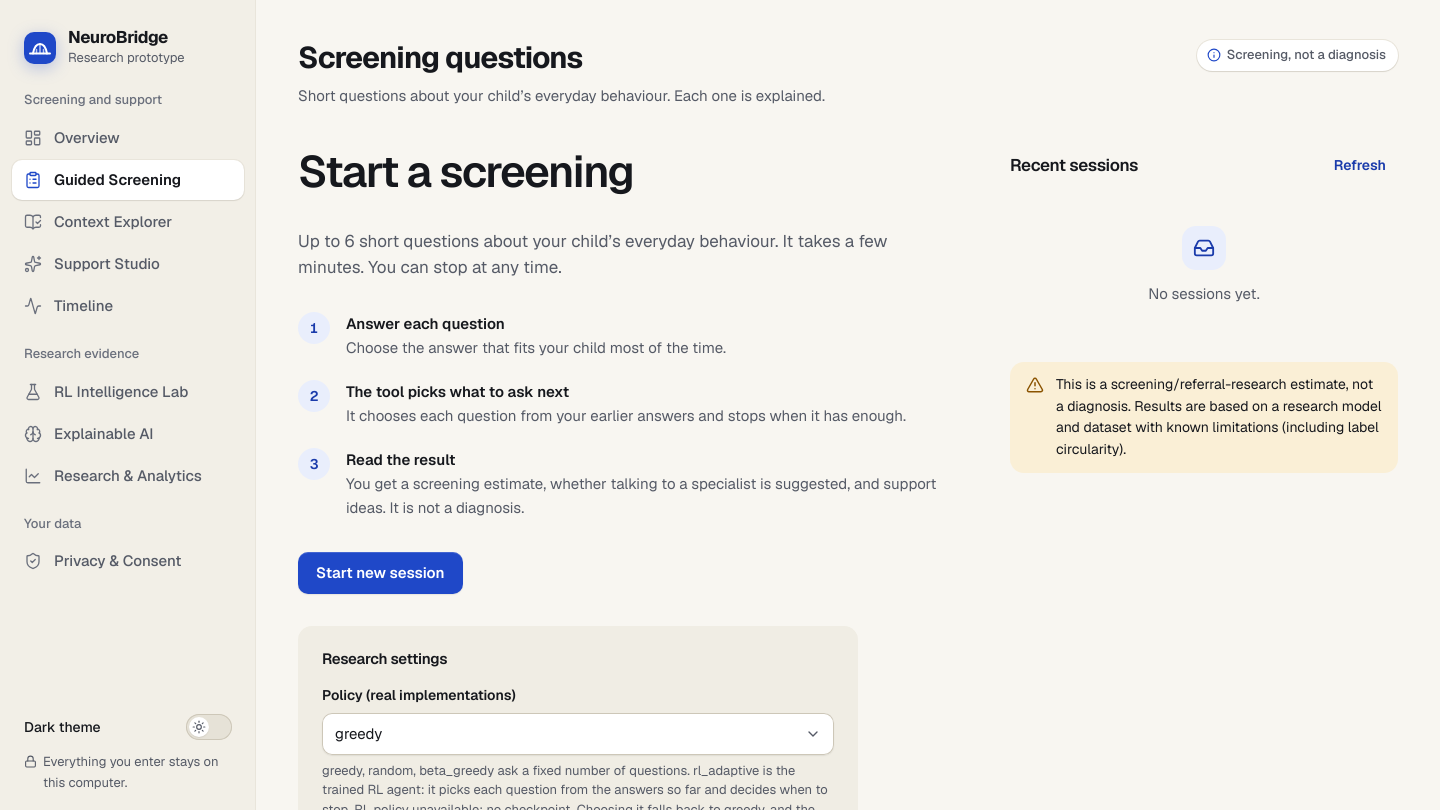
Test case: guided screening › rl_adaptive offers "Prefer not to answer" and sends skip
The width and height of the screenshot is (1440, 810).
Select "rl_adaptive" in the dropdown labelled "Policy (real implementations)" at coordinates (578, 734), box [322,713,834,755]
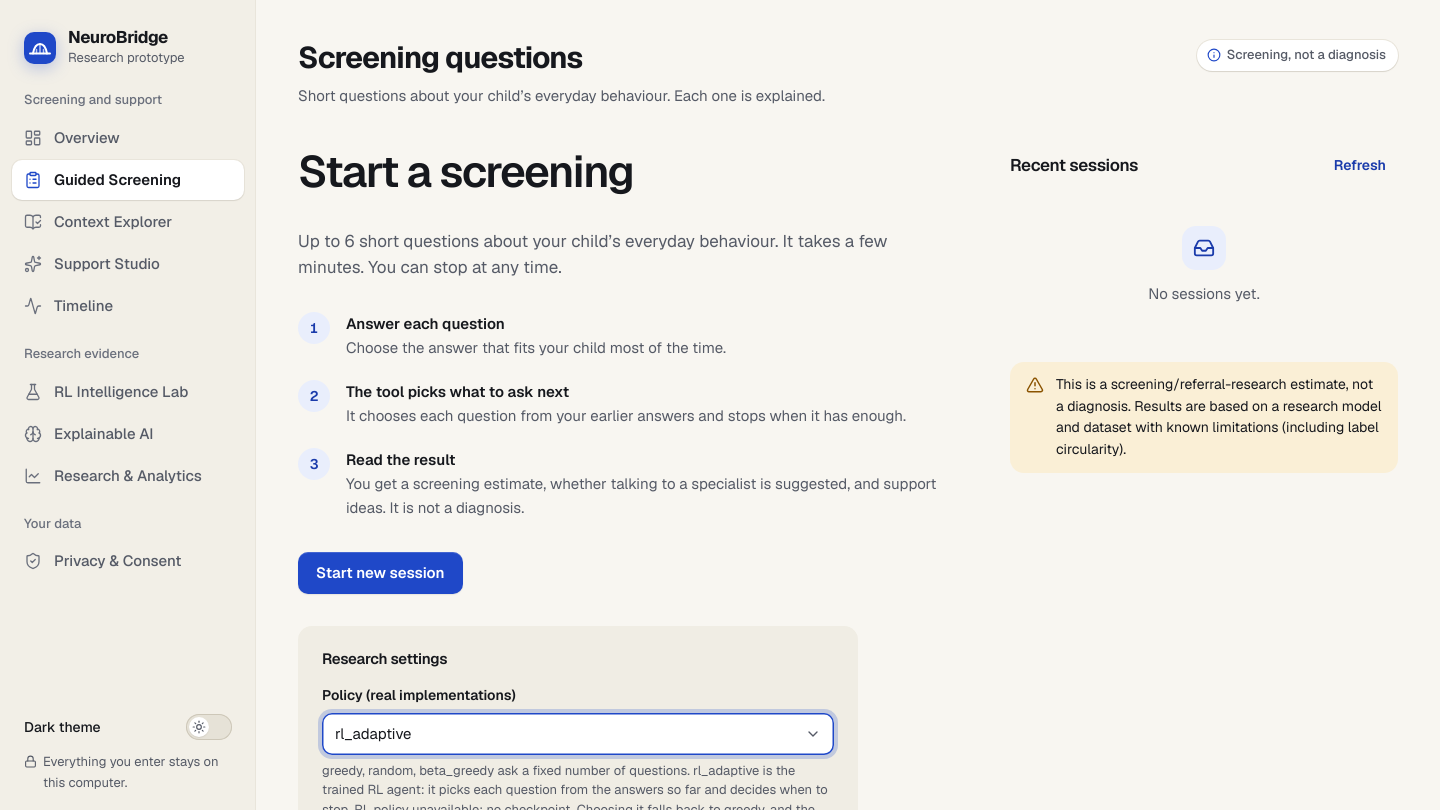
Click the button "Start new session" at coordinates (380, 573), box [298,552,462,594]
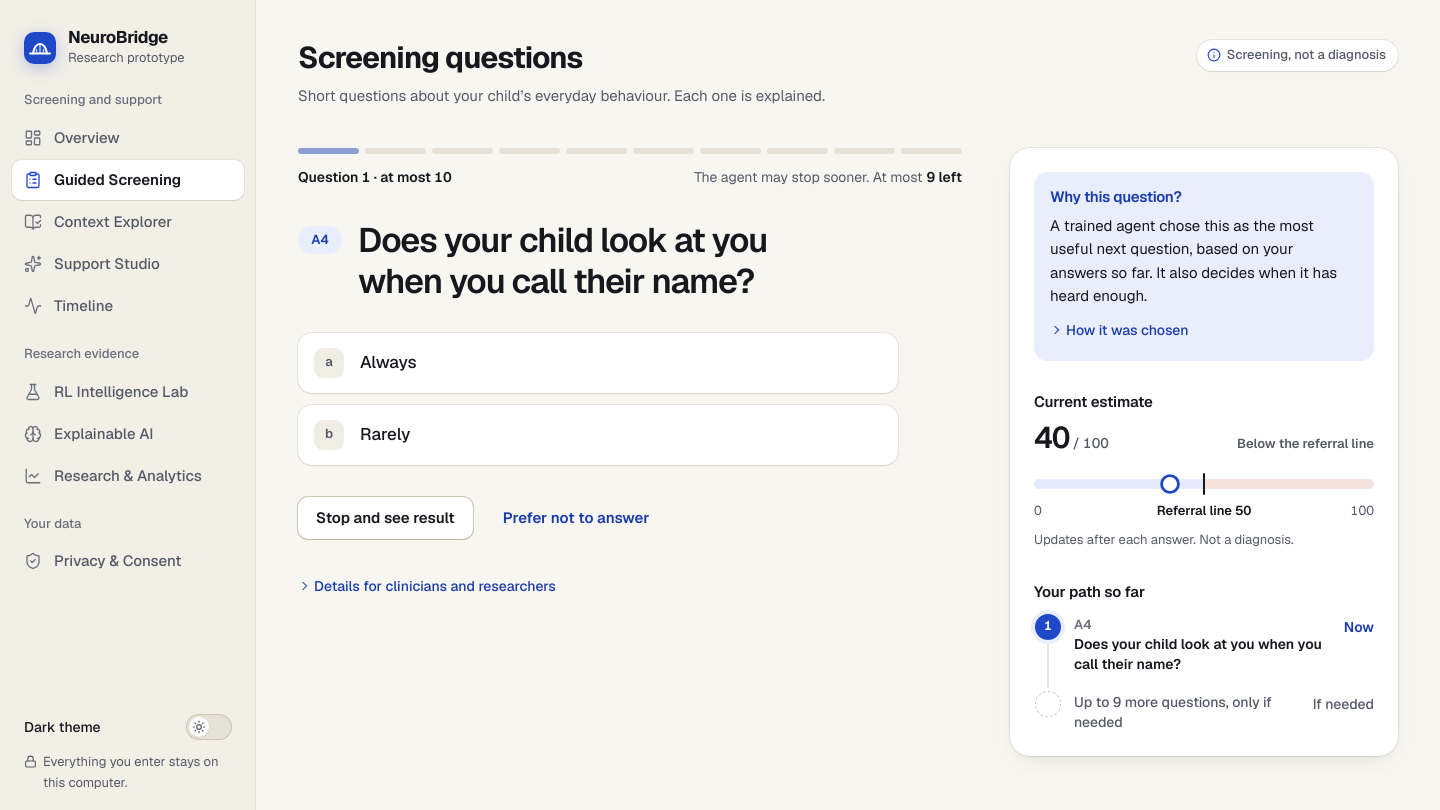
Click the button "Prefer not to answer" at coordinates (576, 518), box [485,497,667,539]
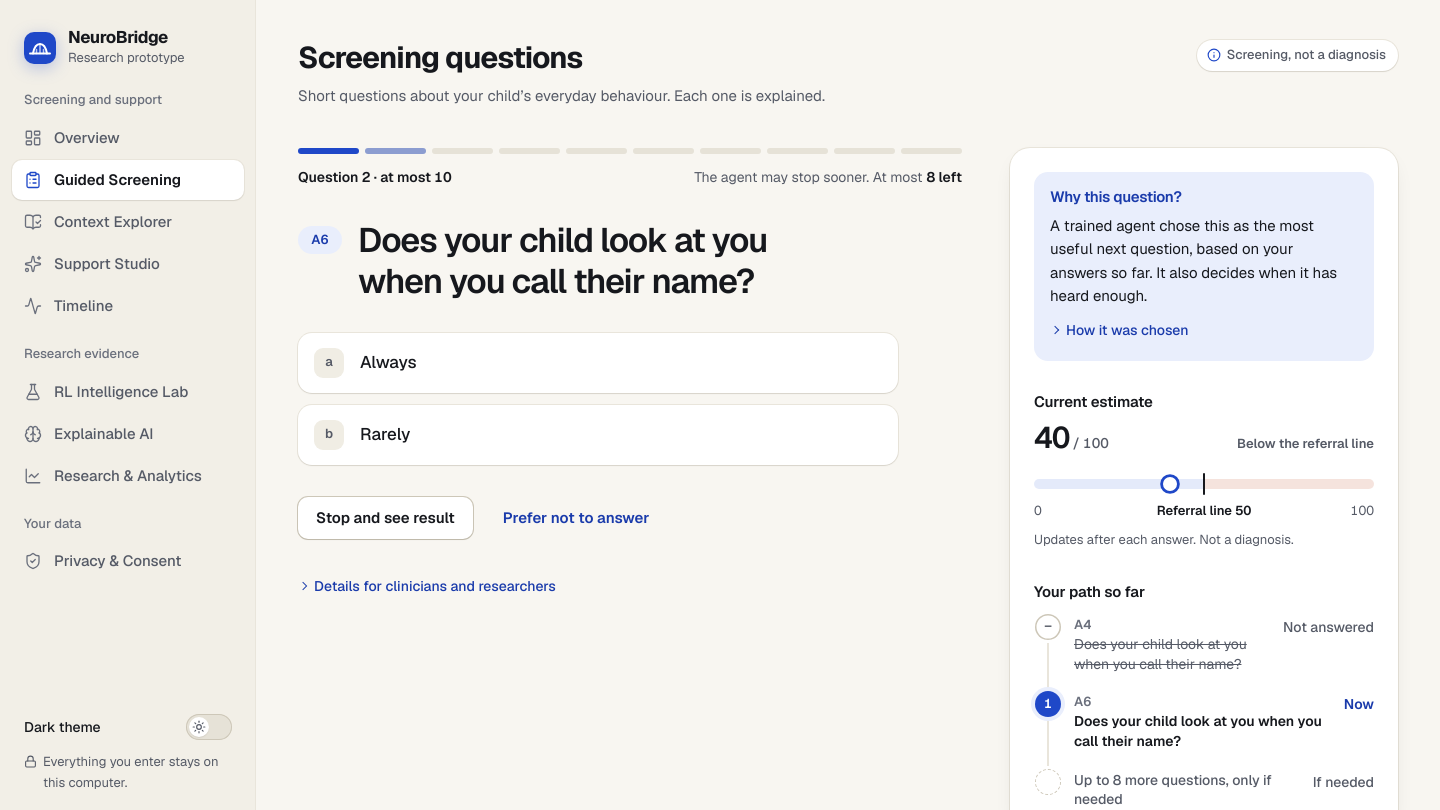
Check: the heading "A6 Does your child look at you when you call their name?" is shown, box [298,218,767,302]
